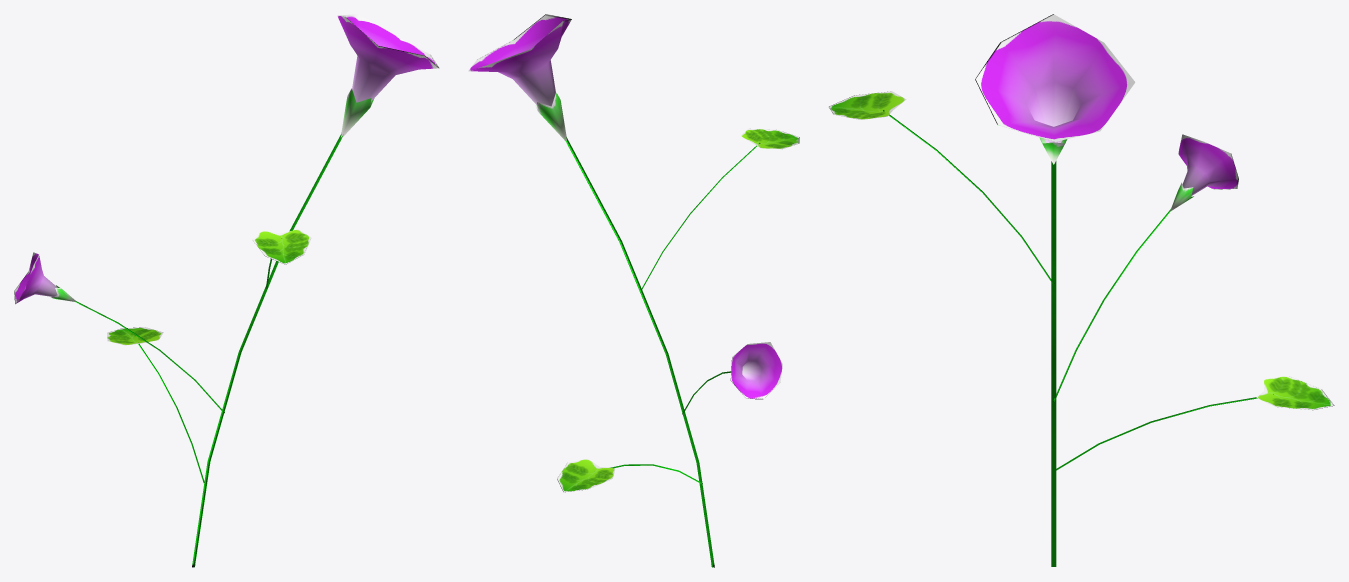
File: Flower_ForestProp_002.fbx
3 renders of one model, left to right at view 1: azimuth 30°, elevation 25°; view 2: azimuth 150°, elevation 25°; view 3: azimuth 270°, elevation 25°, orthographic. The views are drawn at different scales.
Parts seen in each view (by area): view 1: Flower_ForestProp_002; view 2: Flower_ForestProp_002; view 3: Flower_ForestProp_002.
Boxes of the visible parts, <box> form: Flower_ForestProp_002: <box>14,14,439,567</box>; Flower_ForestProp_002: <box>468,14,799,567</box>; Flower_ForestProp_002: <box>829,14,1334,566</box>.
Bounding box in the file's own units: 1156 × 1577 × 1120.
1 material, 1 textured.
